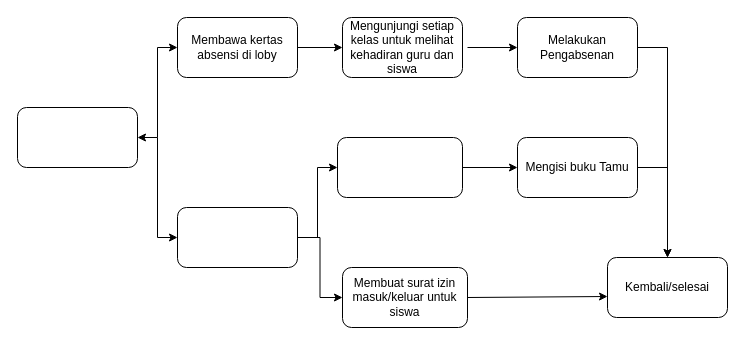
The diagram is 745 pixels wide and 345 high, and some of its shapes have lost their labels. The shapes that lost their labels are listed below. From the top down, each one's centre as x and y in pixels, then its label:
At (77,137): "Guru piket".
At (399,167): "Menanyakan keperluan Tamu".
At (237,237): "Menunggu di loby".
